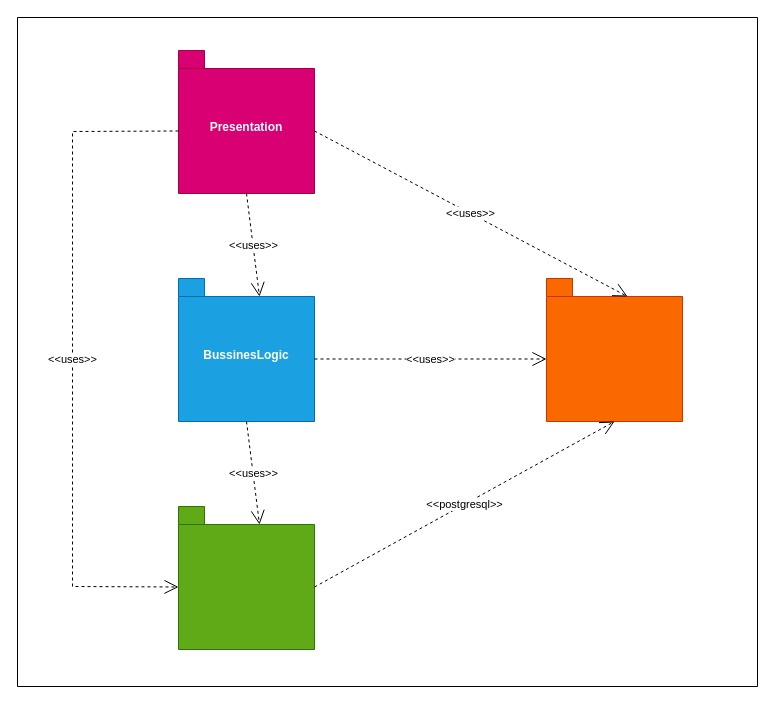
The diagram is 775 pixels wide and 704 high, and some of its shapes have lost their labels. The shapes that lost their labels are listed below. From the top down, each one's box as (x1, y1, x2, y2) in pixels, then its label:
(546, 278, 682, 422): Model
(178, 506, 314, 650): DataAcces
